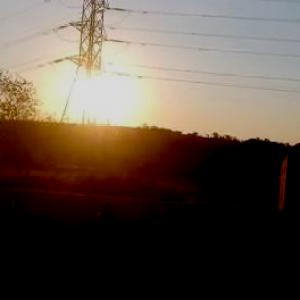follow: (62, 192, 133, 299)
